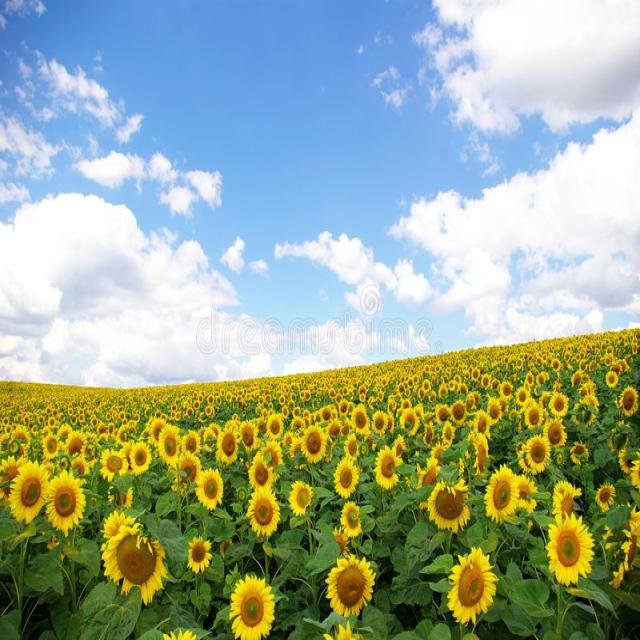sunflower: (104, 502, 172, 608), (445, 540, 504, 624), (222, 572, 292, 640), (320, 556, 384, 630), (546, 511, 596, 590), (422, 472, 475, 538), (2, 456, 48, 530), (42, 472, 84, 536), (243, 482, 282, 538), (482, 463, 519, 519), (193, 460, 224, 510), (370, 442, 400, 492), (328, 454, 358, 502), (213, 420, 240, 469), (184, 533, 213, 578), (98, 444, 129, 486), (300, 421, 327, 468), (290, 475, 318, 520), (158, 418, 180, 472), (524, 432, 552, 474), (127, 441, 153, 475), (248, 456, 272, 492), (543, 418, 568, 450), (340, 503, 363, 537), (398, 407, 421, 439), (40, 428, 62, 461), (472, 406, 494, 439), (616, 388, 640, 418), (63, 429, 86, 460), (264, 410, 286, 442), (350, 403, 370, 435), (596, 483, 618, 512), (546, 390, 568, 417), (438, 417, 455, 446), (516, 385, 530, 409)
